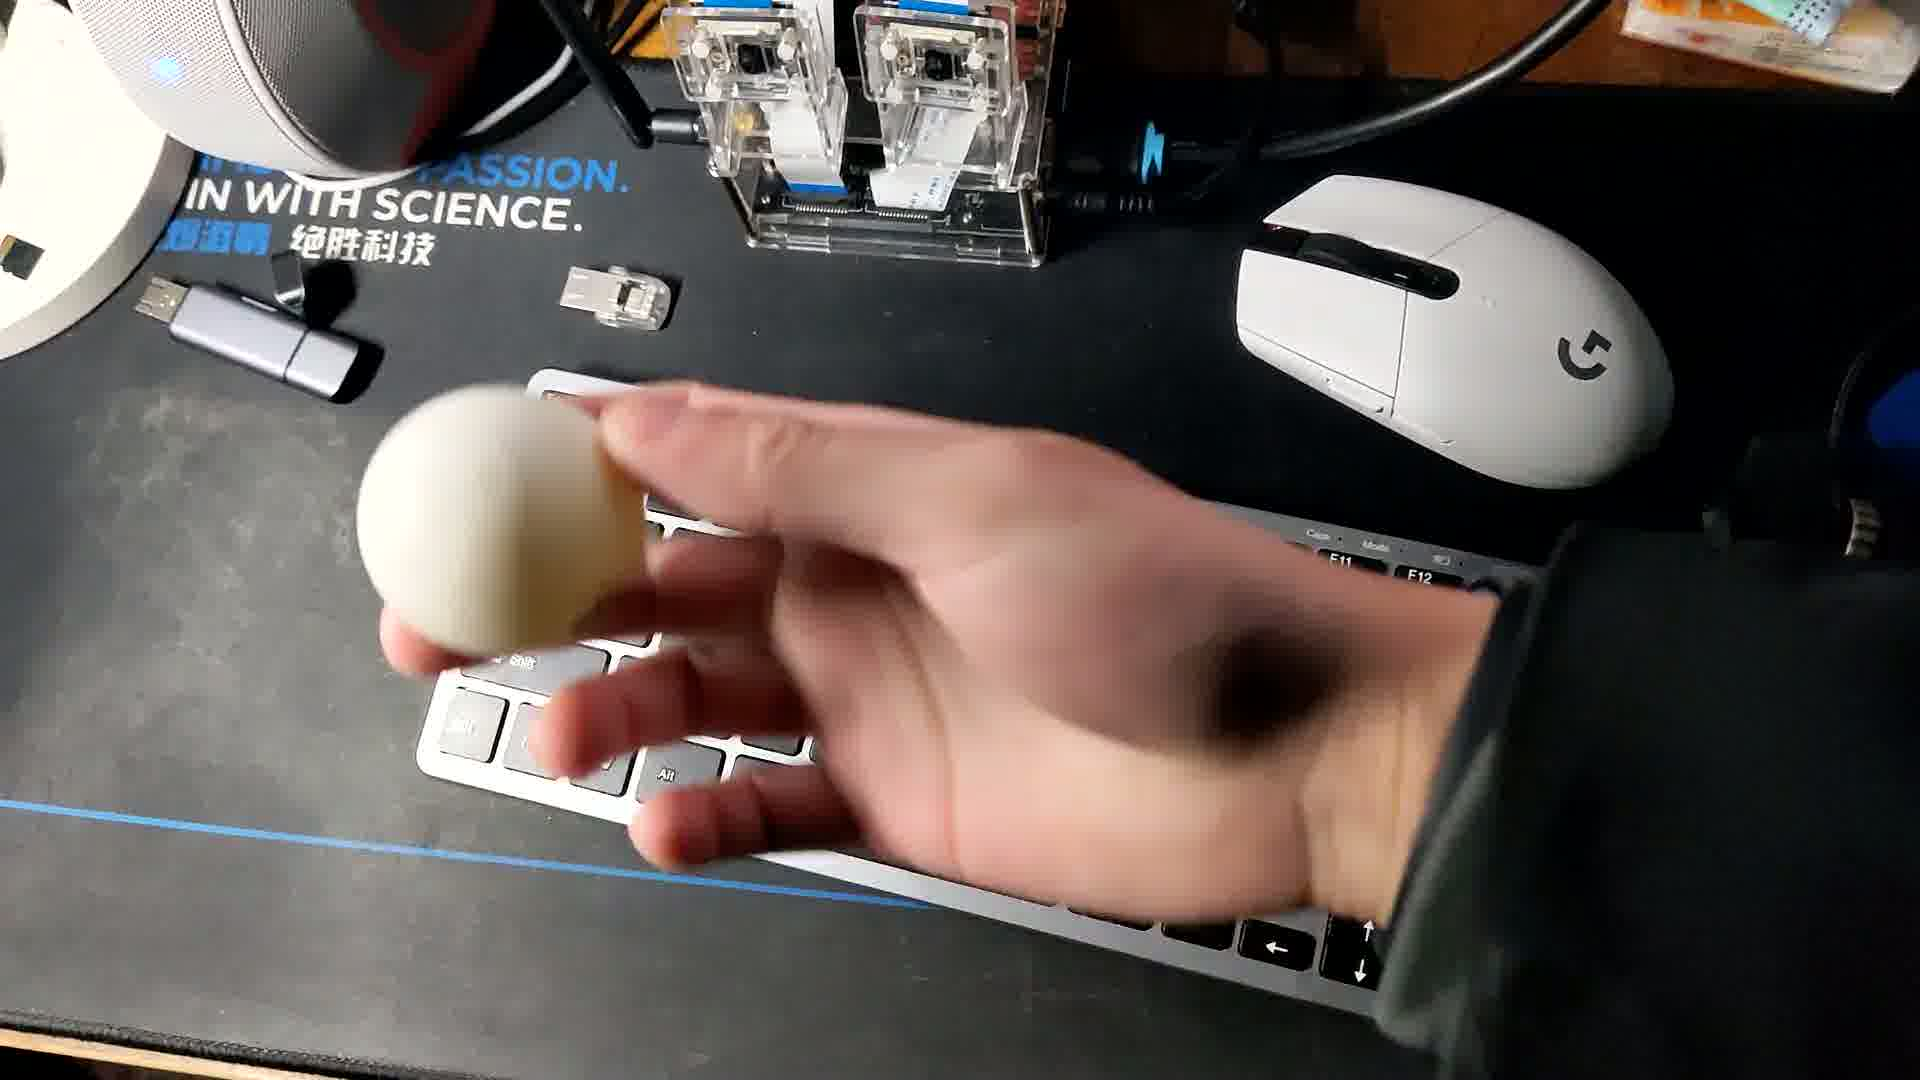Ball: (349, 382, 646, 662)
